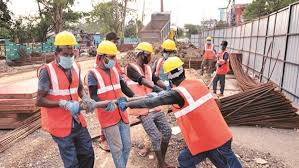arm: (35, 65, 76, 108), (120, 86, 185, 111), (82, 69, 119, 112), (133, 64, 167, 93)
face: (54, 45, 78, 66), (100, 53, 117, 68)
glove: (58, 98, 81, 113), (103, 98, 118, 112), (116, 95, 128, 110), (155, 78, 168, 89)
goggle: (54, 46, 77, 57)
helmet: (51, 28, 79, 48), (160, 54, 184, 74), (95, 38, 121, 56), (134, 39, 154, 53), (159, 37, 177, 51), (205, 34, 213, 42)
human: (115, 53, 240, 165), (34, 27, 93, 166), (126, 37, 158, 95), (212, 36, 232, 92), (200, 32, 216, 70)
leg: (104, 121, 126, 167), (54, 132, 78, 167), (76, 125, 95, 167), (216, 140, 240, 167), (217, 72, 226, 95), (197, 56, 207, 74)
noglove: (154, 76, 167, 88)
nogoggle: (56, 45, 76, 54), (101, 54, 117, 60)
nohelmet: (218, 38, 229, 48)
vest: (174, 78, 225, 148), (40, 59, 82, 133), (90, 65, 126, 121), (216, 48, 229, 72), (202, 42, 214, 59)
